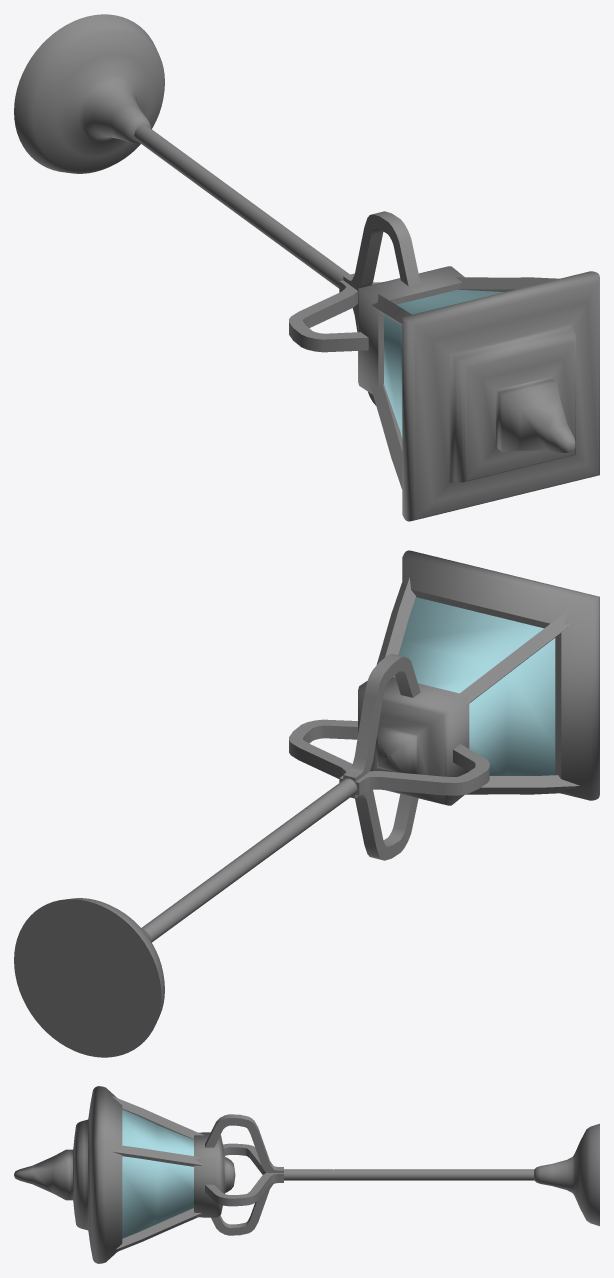
The model's file is Lamppost.gltf.
3 views of the same model, one above another, from view 1: azimuth 30°, elevation 25°; view 2: azimuth 150°, elevation 25°; view 3: azimuth 270°, elevation 25° (orthographic). The views are drawn at different scales.
Visible parts, largest first — view 1: node-0; view 2: node-0; view 3: node-0.
Boxes of the visible parts, left/top/right/bottom form: node-0: left=14, top=14, right=599, bottom=521; node-0: left=14, top=550, right=599, bottom=1057; node-0: left=14, top=1086, right=599, bottom=1263.
Size of the model in its own units: 1.2 by 1.2 by 5.24.
